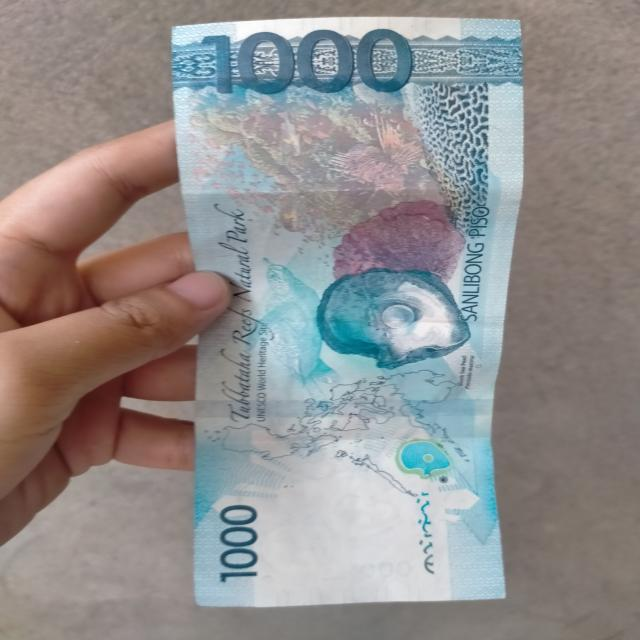security_thread: (191, 399, 492, 415)
see_through_mark: (402, 482, 453, 579)
watermark: (254, 458, 421, 578)
